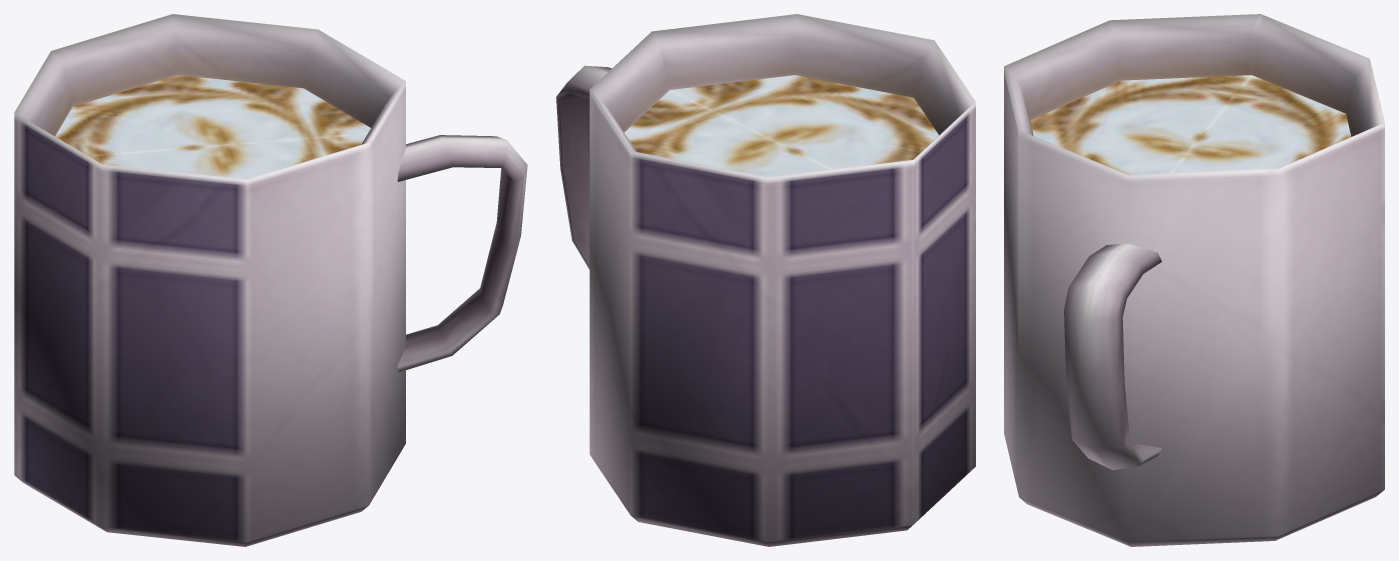
File: TuShuGuan_01_shuibei_01.FBX
3 views of the same model, side by side, from view 1: azimuth 30°, elevation 25°; view 2: azimuth 150°, elevation 25°; view 3: azimuth 270°, elevation 25° (orthographic).
Parts seen in each view (by area): view 1: TuShuGuan_shuibei_01; view 2: TuShuGuan_shuibei_01; view 3: TuShuGuan_shuibei_01.
Part boxes in pixels (x1,y1,x2,y2): TuShuGuan_shuibei_01: (14, 14, 527, 546); TuShuGuan_shuibei_01: (556, 14, 975, 546); TuShuGuan_shuibei_01: (1004, 14, 1384, 546).
Bounding box in the file's own units: 60.77 × 50.48 × 46.35.
